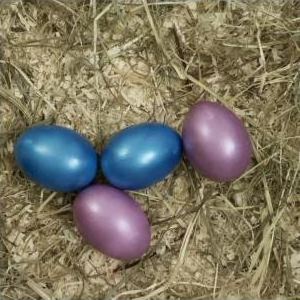egg: (73, 183, 151, 262), (15, 125, 98, 193), (101, 123, 184, 191), (183, 102, 253, 182)
